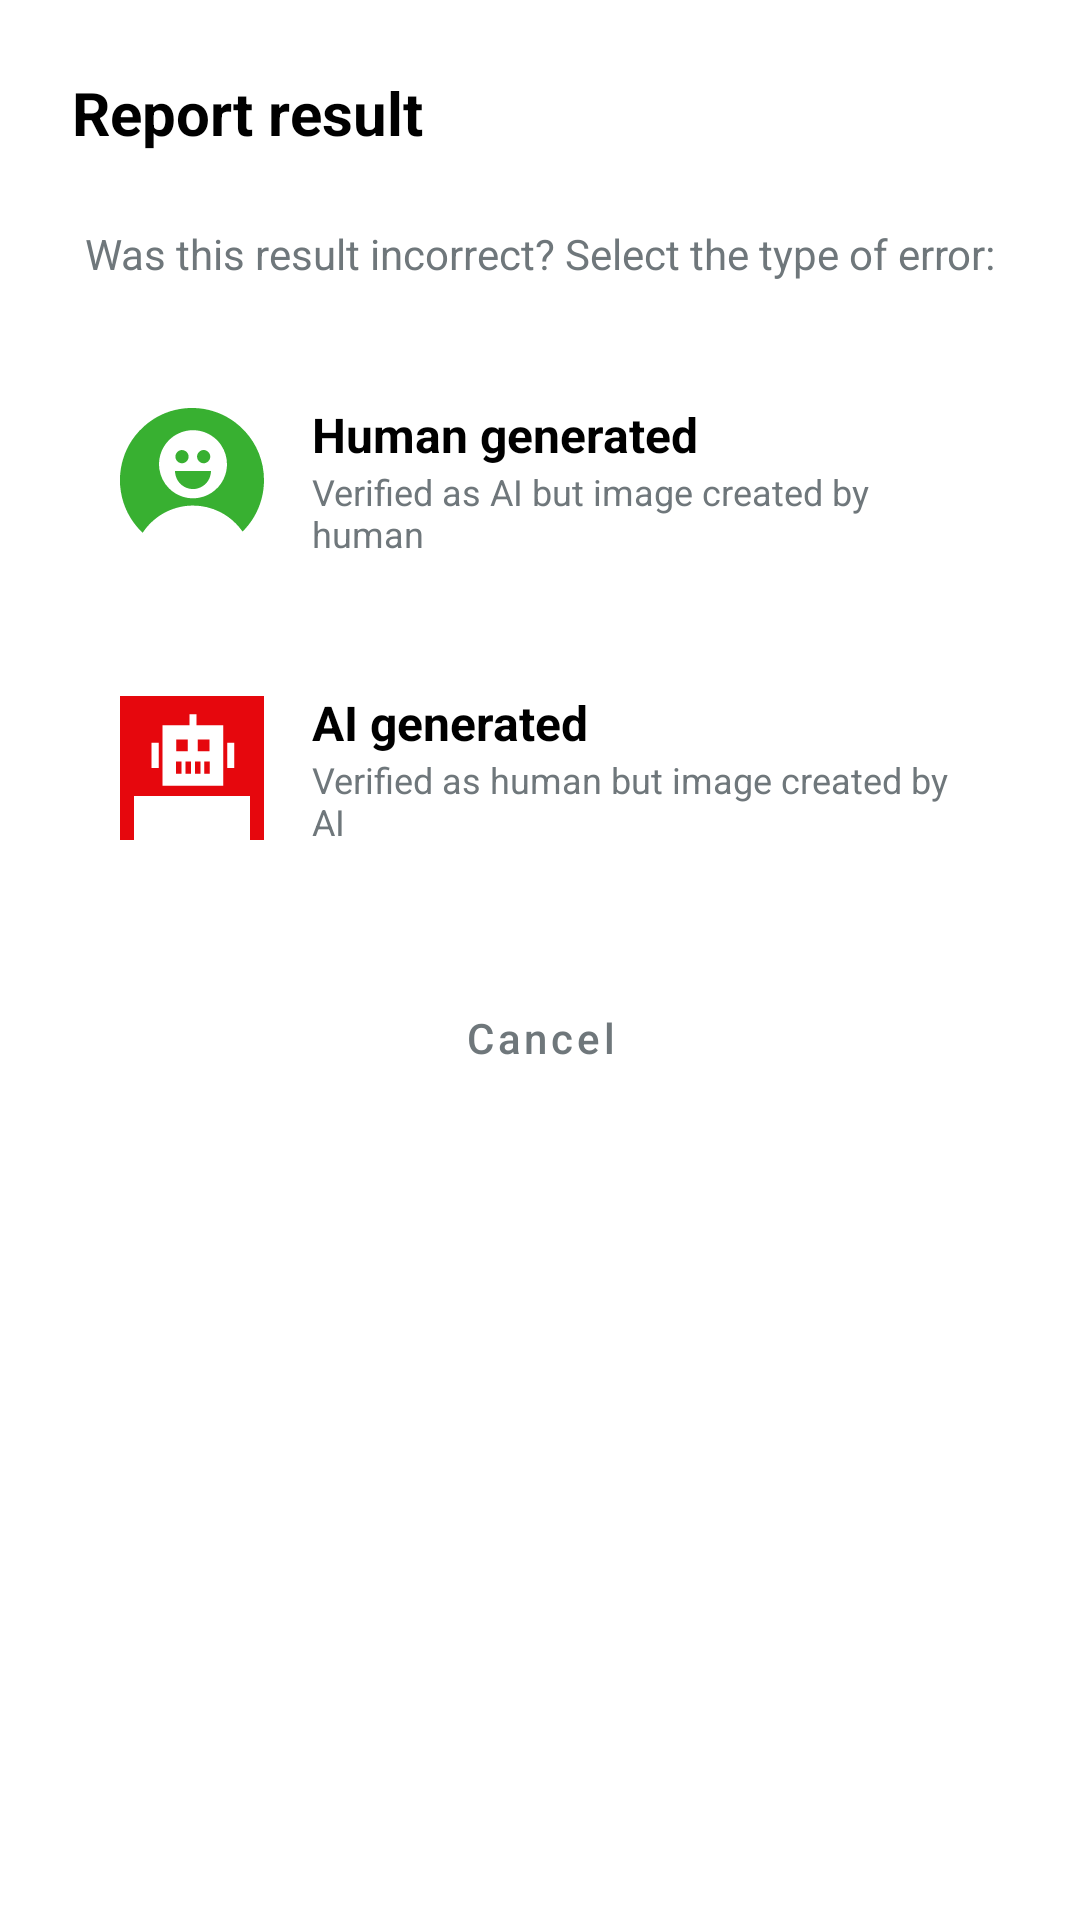

Icon click points for this 1080px×1920px phone screenshot, format (x,y):
verifylabs robot: (192,768)
verifylabs smile: (192,470)
